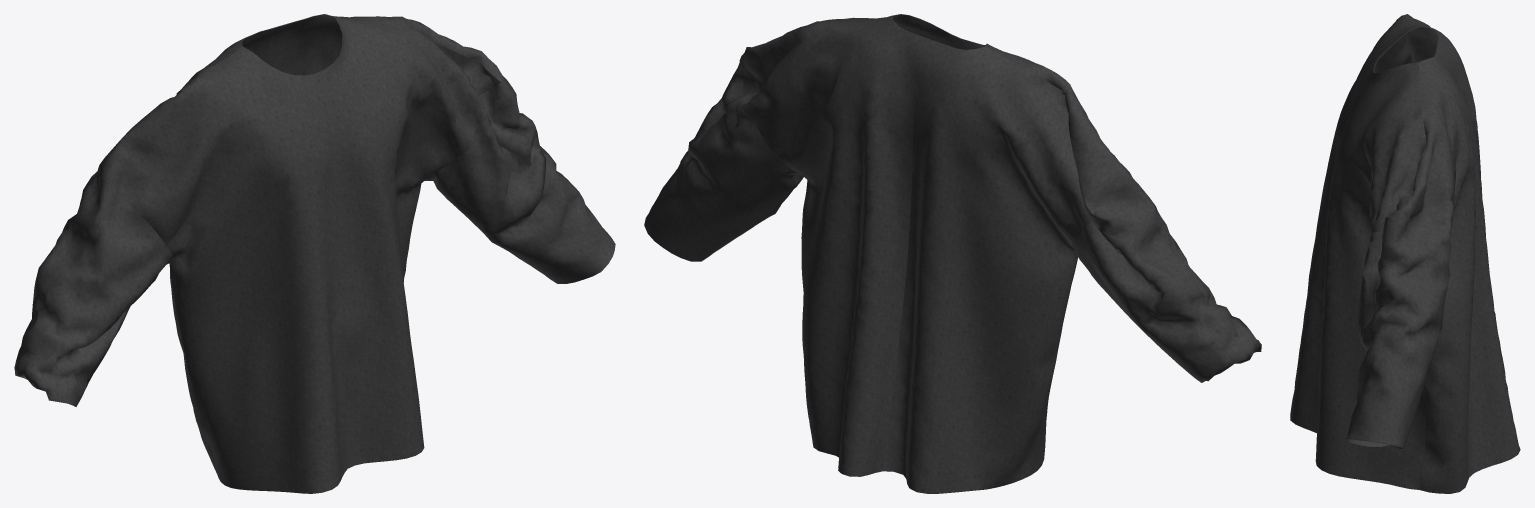
File: FLG_11_01_04.fbx
The picture shows the model from 3 angles, left to right: view 1: azimuth 30°, elevation 25°; view 2: azimuth 150°, elevation 25°; view 3: azimuth 270°, elevation 25°; orthographic projection. The views are drawn at different scales.
Parts seen in each view (by area): view 1: FLG_11_01_04; view 2: FLG_11_01_04; view 3: FLG_11_01_04.
Boxes of the visible parts, x1,y1,x2,y2 form: FLG_11_01_04: [14, 14, 615, 493]; FLG_11_01_04: [644, 14, 1261, 493]; FLG_11_01_04: [1290, 14, 1520, 493].
Bounding box in the file's own units: 121 × 84.03 × 42.5.
